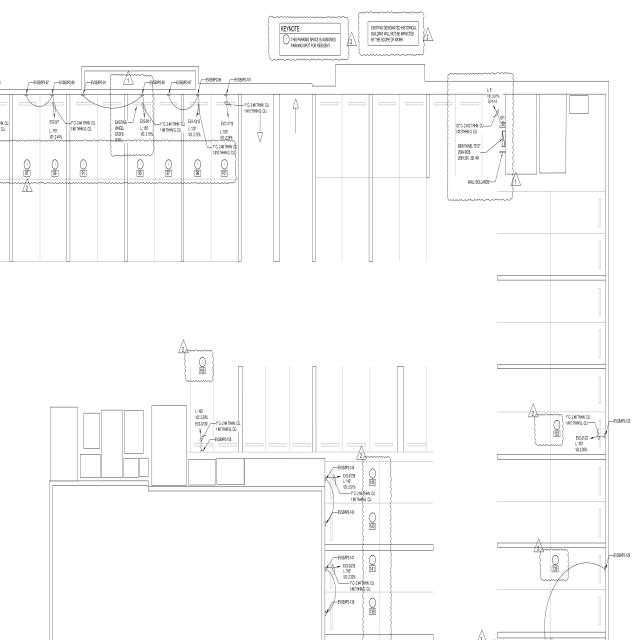gfi: (501, 121, 505, 125)
panel: (500, 130, 508, 148)
